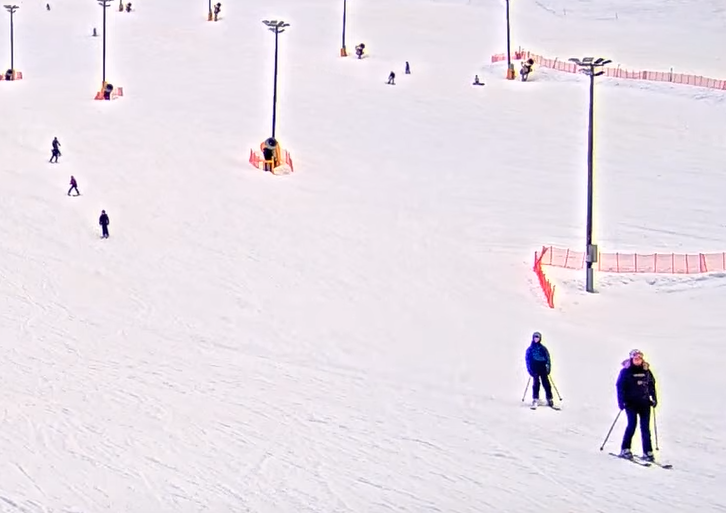skier: (599, 348, 675, 471), (519, 331, 562, 412)
